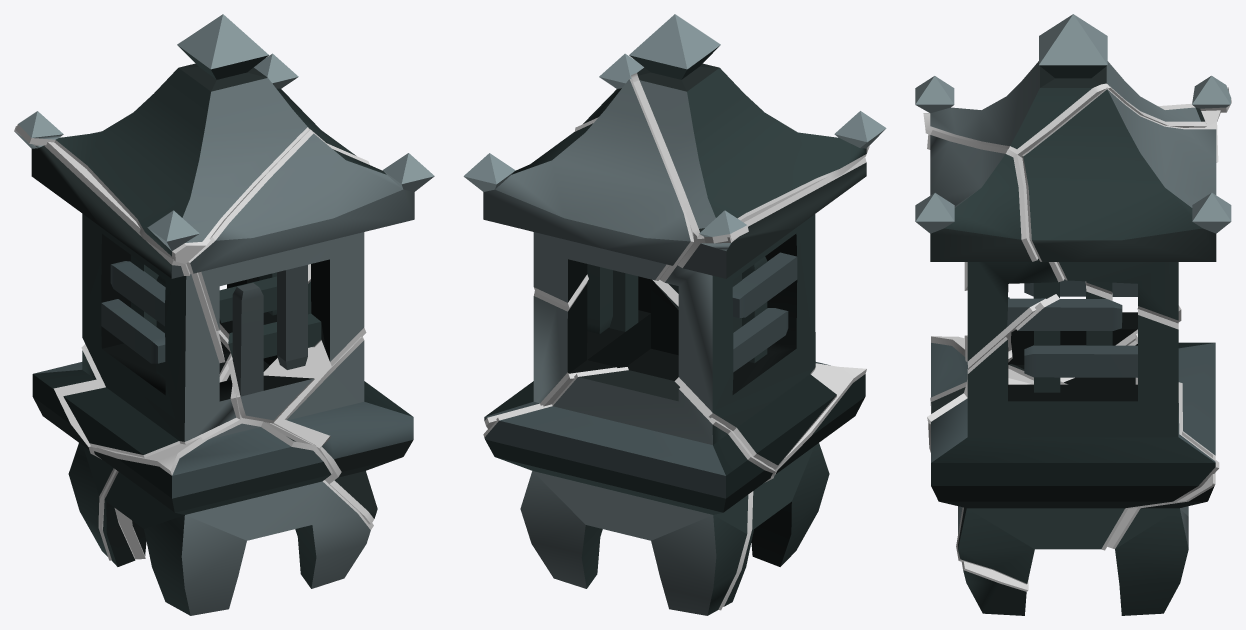
Rendered from v7_shrine.fbx.
The picture shows the model from 3 angles, left to right: view 1: azimuth 30°, elevation 25°; view 2: azimuth 150°, elevation 25°; view 3: azimuth 270°, elevation 25°; orthographic projection.
Parts seen in each view (by area): view 1: shard6, shard3, shard1, shard2, shard4, shard5, gold4, gold1, gold3, gold5, gold6, gold2 (+1 smaller); view 2: shard5, shard1, shard7, shard2, shard4, shard3, gold1, gold2, gold3, gold5, shard6, gold4 (+1 smaller); view 3: shard4, shard7, shard6, shard2, shard5, shard3, shard1, gold4, gold6, gold2, gold3, gold5 (+2 smaller).
Boxes of the visible parts, x1=… form: shard6: x1=190, y1=133, x2=434, y2=420; shard3: x1=94, y1=423, x2=370, y2=615; shard1: x1=14, y1=131, x2=236, y2=454; shard2: x1=18, y1=14, x2=307, y2=256; shard4: x1=219, y1=272, x2=413, y2=518; shard5: x1=32, y1=341, x2=230, y2=556; gold4: x1=219, y1=264, x2=374, y2=524; gold1: x1=14, y1=126, x2=240, y2=457; gold3: x1=93, y1=415, x2=373, y2=559; gold5: x1=53, y1=330, x2=232, y2=560; gold6: x1=186, y1=128, x2=369, y2=423; gold2: x1=16, y1=124, x2=309, y2=263; shard5: x1=484, y1=370, x2=772, y2=615; shard1: x1=665, y1=162, x2=866, y2=465; shard7: x1=463, y1=79, x2=690, y2=302; shard2: x1=629, y1=14, x2=886, y2=236; shard4: x1=484, y1=264, x2=678, y2=420; shard3: x1=724, y1=362, x2=865, y2=606; gold1: x1=659, y1=157, x2=866, y2=469; gold2: x1=631, y1=73, x2=869, y2=243; gold3: x1=723, y1=363, x2=866, y2=606; gold5: x1=483, y1=367, x2=775, y2=610; shard6: x1=583, y1=53, x2=678, y2=293; gold4: x1=484, y1=280, x2=678, y2=429; shard4: x1=931, y1=291, x2=1215, y2=583; shard7: x1=1023, y1=89, x2=1231, y2=320; shard6: x1=915, y1=135, x2=1057, y2=360; shard2: x1=915, y1=14, x2=1230, y2=148; shard5: x1=1064, y1=342, x2=1215, y2=615; shard3: x1=931, y1=343, x2=1026, y2=615; shard1: x1=1008, y1=279, x2=1137, y2=370; gold4: x1=927, y1=285, x2=1219, y2=584; gold6: x1=930, y1=130, x2=1064, y2=369; gold2: x1=923, y1=83, x2=1231, y2=157; gold3: x1=930, y1=336, x2=1033, y2=591; gold5: x1=1060, y1=333, x2=1215, y2=548.
Size of the model in its own units: 8.1 by 15.92 by 8.11.
